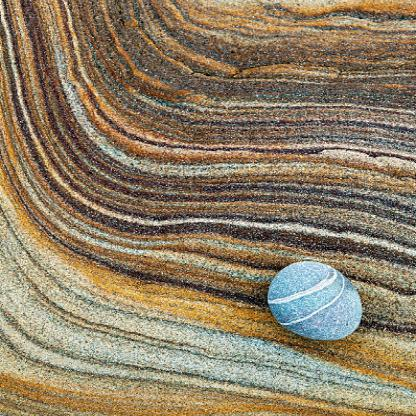Sedimentary_Sandstone: (61, 76, 324, 222)
